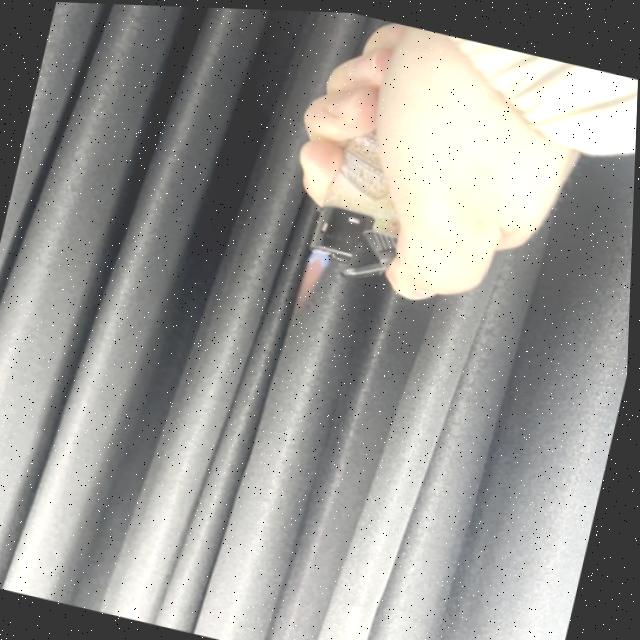Fire: (293, 243, 335, 317)
